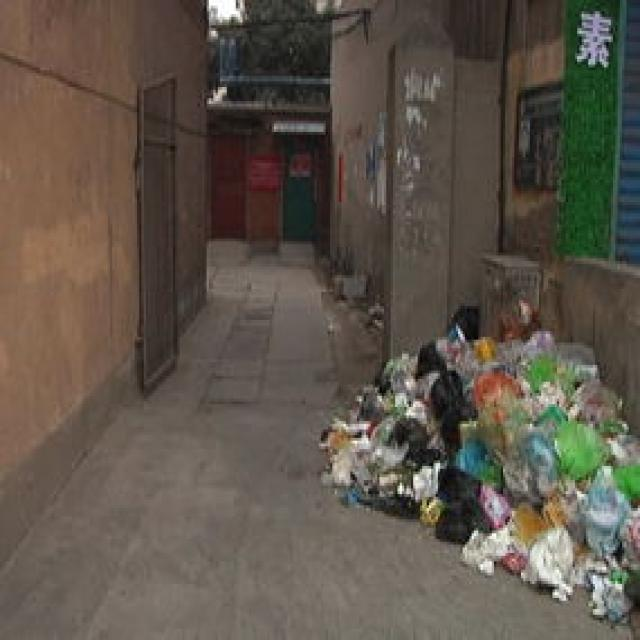garbage: (312, 301, 638, 624)
